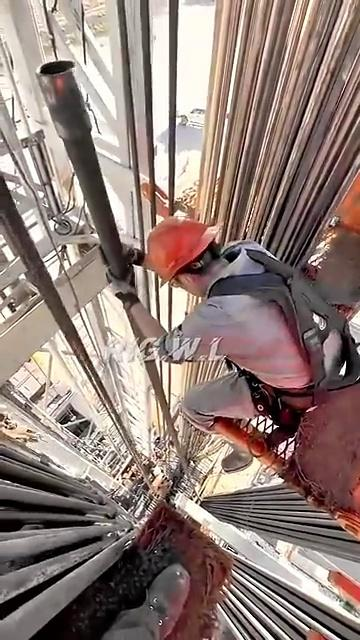gloves: (95, 253, 142, 315)
helmet: (152, 203, 235, 278)
shoes: (203, 418, 277, 495)
worker: (110, 183, 332, 520)
